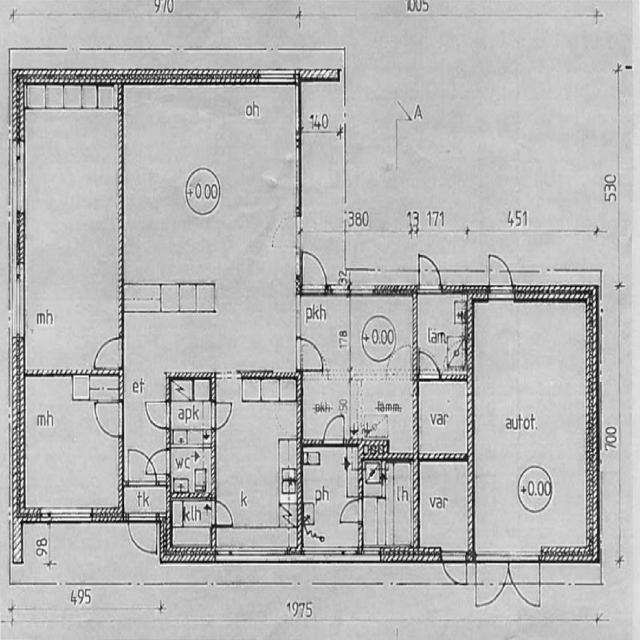door: (122, 477, 170, 521), (510, 556, 544, 612), (474, 557, 509, 611), (92, 398, 124, 440), (486, 252, 514, 298), (125, 446, 158, 484), (300, 249, 327, 293), (92, 336, 124, 372), (127, 517, 157, 555), (416, 253, 442, 293), (439, 554, 468, 588), (296, 337, 324, 372), (144, 398, 171, 431), (322, 414, 346, 446), (338, 496, 363, 526), (418, 350, 441, 381), (148, 449, 172, 476), (213, 499, 235, 528), (213, 401, 233, 430)
window: (8, 138, 28, 219), (9, 262, 27, 340), (41, 507, 97, 527), (222, 548, 284, 564), (305, 546, 356, 563), (255, 70, 295, 86), (294, 295, 304, 339), (294, 215, 305, 253)
zone: (125, 82, 297, 374), (472, 296, 594, 557), (22, 106, 122, 372), (214, 375, 300, 549), (20, 373, 120, 519), (349, 363, 417, 456), (301, 445, 360, 550), (416, 458, 472, 556), (360, 461, 416, 556), (351, 293, 412, 369), (417, 290, 468, 376), (418, 378, 470, 460), (168, 378, 214, 441), (170, 441, 214, 499), (170, 499, 214, 551), (122, 482, 169, 520), (337, 496, 362, 526)
